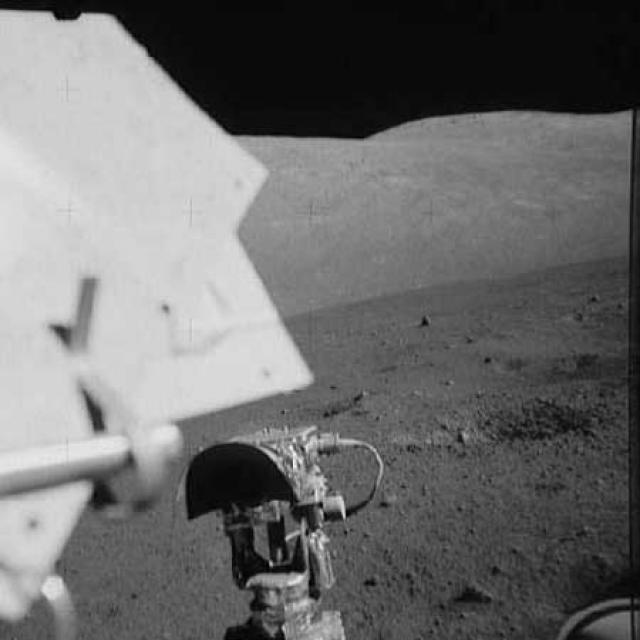artifact: (178, 432, 398, 639), (550, 588, 638, 638)
crater: (453, 404, 591, 447), (483, 353, 627, 388), (276, 396, 367, 420)
